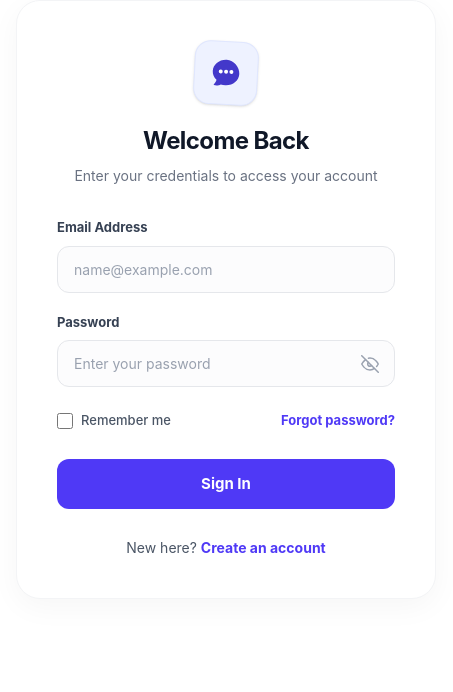
Test: LoginForm › should display error message with invalid credentials
The image size is (453, 692).
Type "wrong@gmail.com" into the field labelled "Email Address" at (226, 269), box [57,246,395,292]
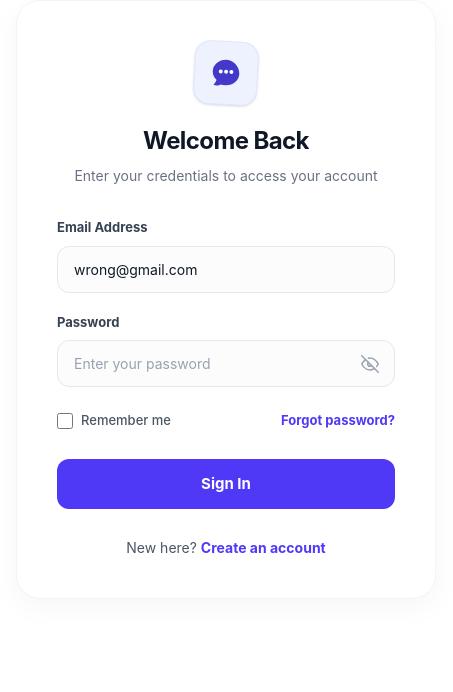
Type "wrong123" into the password field labelled "Password" at (226, 364), box [57,340,395,387]
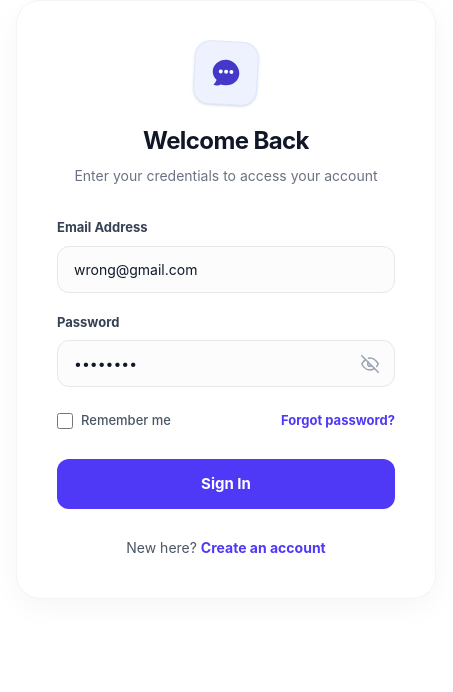
Click the button "Sign In" at (226, 484), box [57,458,395,509]
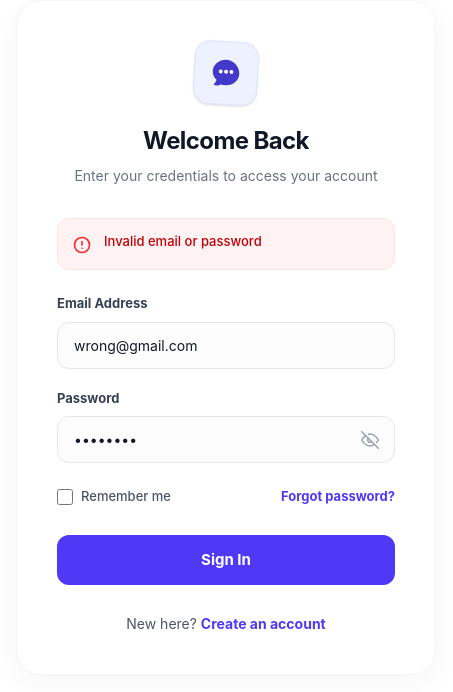
expect the text "Invalid email or password" is shown: met, box [104,233,262,249]
